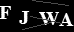A: (57, 11, 74, 27)
F: (1, 5, 12, 20)
J: (18, 10, 30, 25)
W: (37, 11, 60, 26)
